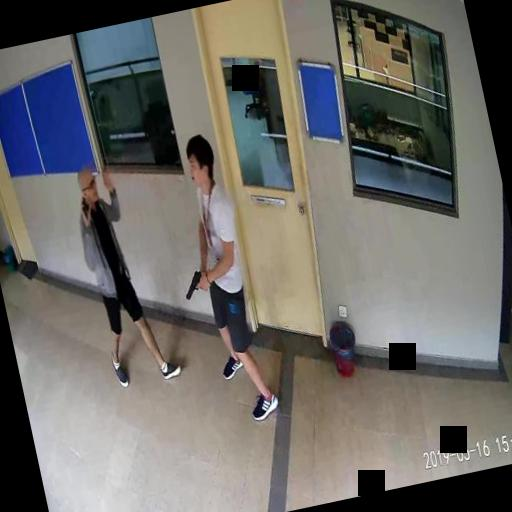Handgun: (178, 268, 202, 296)
